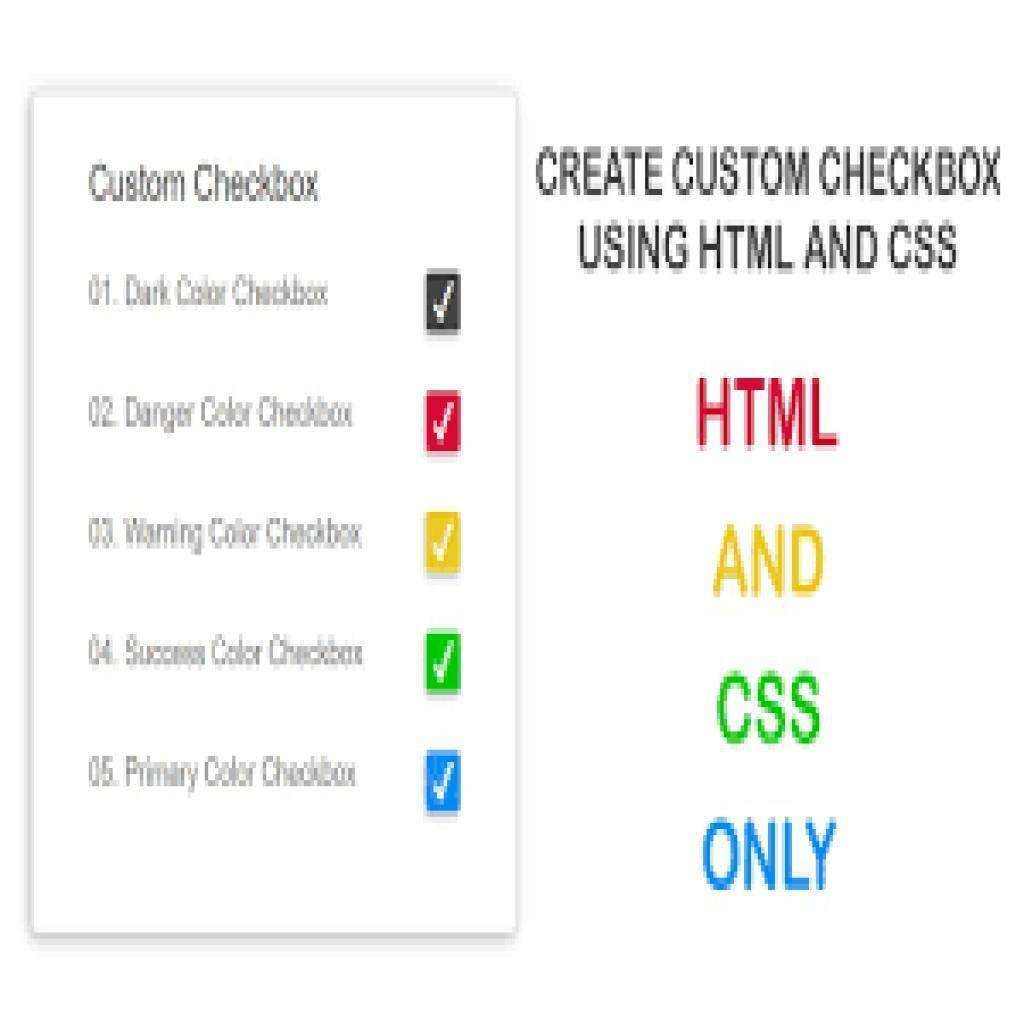checkbox: (424, 268, 463, 333), (425, 632, 463, 693), (425, 512, 459, 577), (426, 388, 459, 453), (426, 749, 459, 814)
label: (81, 748, 358, 797), (84, 386, 357, 433), (83, 632, 368, 677), (85, 516, 371, 558), (80, 159, 328, 207), (85, 271, 335, 316)
